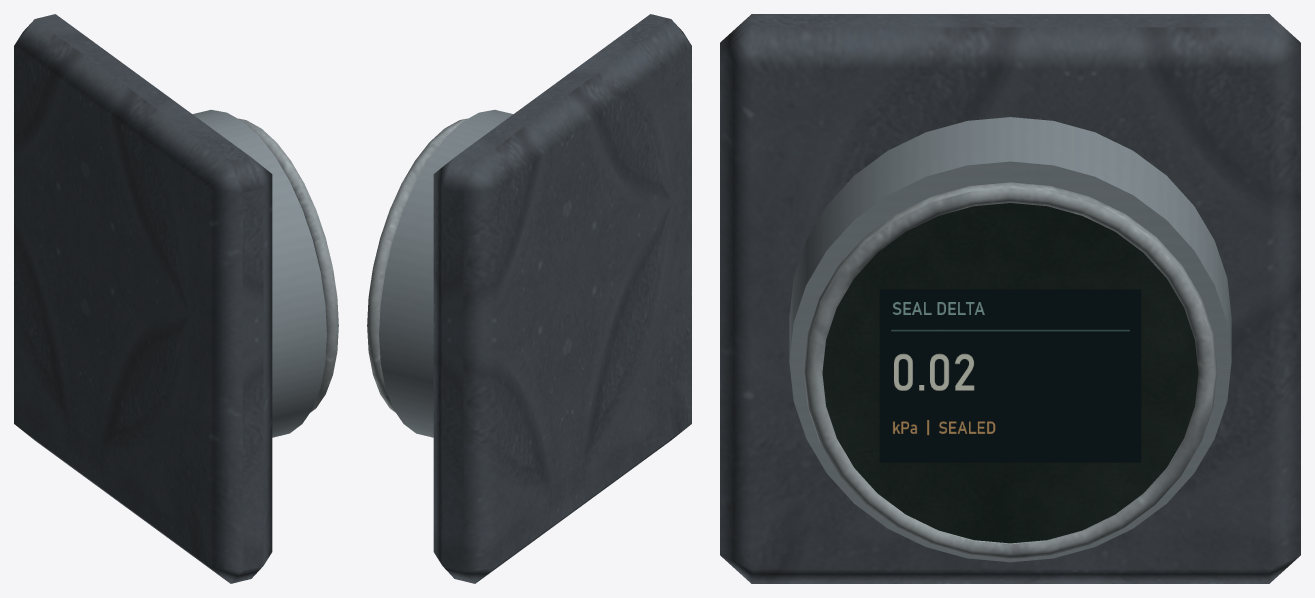
File: prop_pressure_gauge.fbx
The picture shows the model from 3 angles, left to right: view 1: azimuth 30°, elevation 25°; view 2: azimuth 150°, elevation 25°; view 3: azimuth 270°, elevation 25°; orthographic projection. The views are drawn at different scales.
Parts seen in each view (by area): view 1: SM_prop_pressure_gauge; view 2: SM_prop_pressure_gauge; view 3: SM_prop_pressure_gauge.
Part boxes in pixels (x1,y1,x2,y2): SM_prop_pressure_gauge: (14, 14, 338, 583); SM_prop_pressure_gauge: (367, 14, 691, 583); SM_prop_pressure_gauge: (720, 14, 1300, 583).
Size of the model in its own units: 0.132 by 0.35 by 0.331.
Materials: 5 (5 with a texture image).
